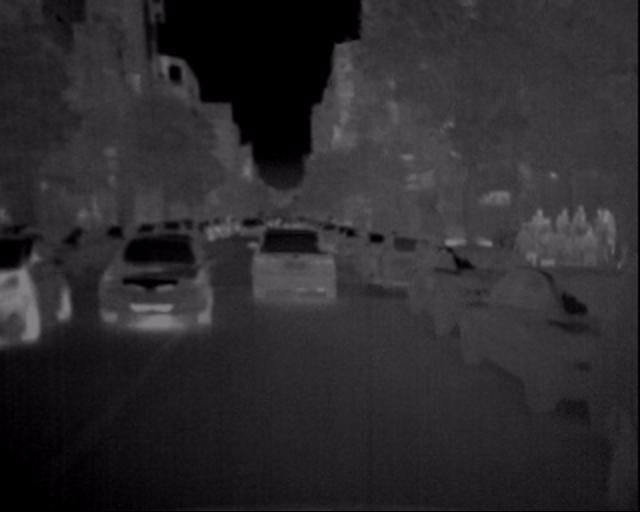person: (511, 195, 626, 278)
